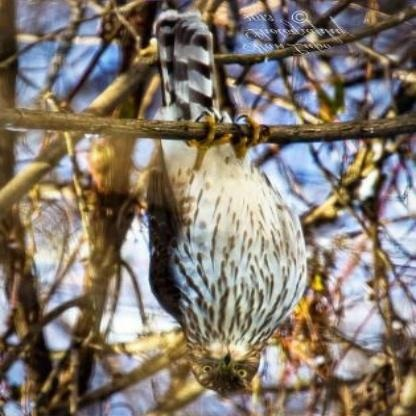Owl: (147, 28, 304, 383)
